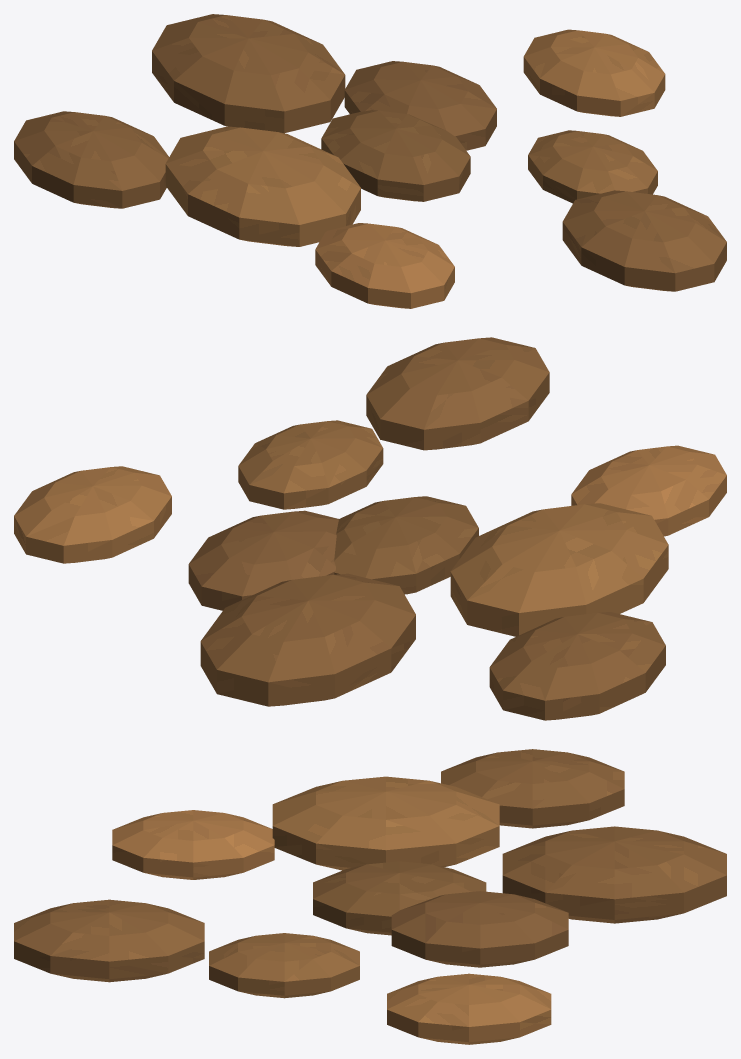
File: seed_cucumber.glb
The picture shows the model from 3 angles, top to bottom: view 1: azimuth 30°, elevation 25°; view 2: azimuth 150°, elevation 25°; view 3: azimuth 270°, elevation 25°; orthographic projection. The views are drawn at different scales.
Parts seen in each view (by area): view 1: block_grain 2, block_grain 4, block_grain 8, block_grain 7, block_grain 0, block_grain 6, block_grain 5, block_grain 1, block_grain 3; view 2: block_grain 4, block_grain 2, block_grain 8, block_grain 7, block_grain 6, block_grain 0, block_grain 1, block_grain 3, block_grain 5; view 3: block_grain 2, block_grain 4, block_grain 8, block_grain 1, block_grain 7, block_grain 6, block_grain 5, block_grain 3, block_grain 0.
Part boxes in pixels (x1,y1,x2,y2): block_grain 2: [165, 126, 360, 246]; block_grain 4: [152, 14, 345, 133]; block_grain 8: [562, 190, 726, 291]; block_grain 7: [14, 111, 168, 208]; block_grain 0: [321, 110, 470, 201]; block_grain 6: [523, 29, 665, 116]; block_grain 5: [315, 223, 454, 308]; block_grain 1: [344, 61, 496, 150]; block_grain 3: [528, 130, 657, 203]; block_grain 4: [200, 573, 415, 706]; block_grain 2: [450, 503, 668, 636]; block_grain 8: [366, 337, 549, 450]; block_grain 7: [489, 612, 665, 720]; block_grain 6: [14, 466, 171, 563]; block_grain 0: [334, 496, 478, 594]; block_grain 1: [188, 510, 338, 610]; block_grain 3: [238, 420, 383, 509]; block_grain 5: [571, 445, 726, 536]; block_grain 2: [272, 776, 499, 870]; block_grain 4: [502, 826, 726, 923]; block_grain 8: [14, 899, 204, 982]; block_grain 1: [391, 891, 568, 967]; block_grain 7: [441, 749, 624, 828]; block_grain 6: [387, 973, 551, 1044]; block_grain 5: [112, 810, 274, 879]; block_grain 3: [209, 933, 359, 998]; block_grain 0: [313, 861, 486, 935].
Size of the model in its own units: 0.0199 by 0.00232 by 0.022.
1 material, 1 textured.
